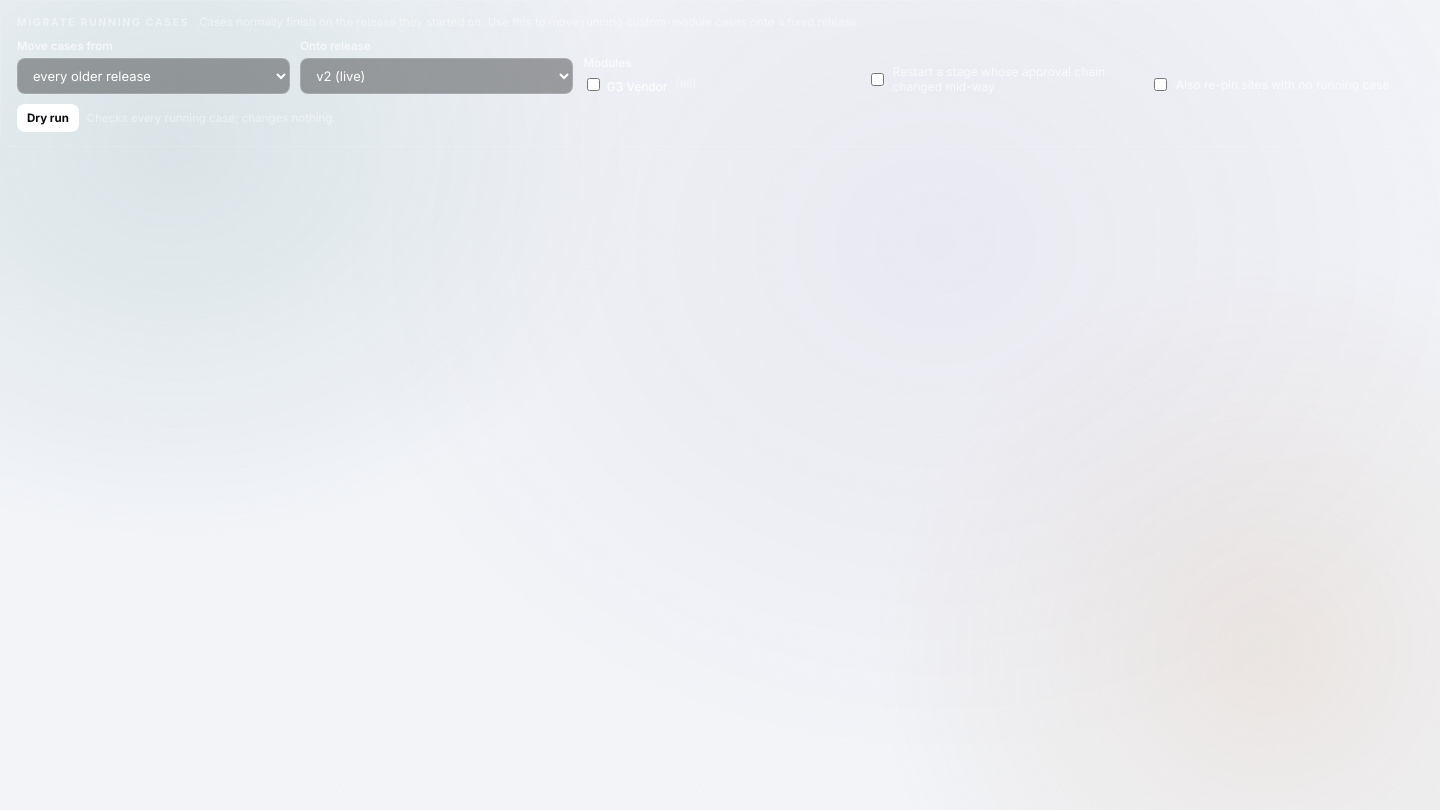
MigrateCasesPanel › dry run -> compatibility table -> reason + confirm -> execute
Click the checkbox labelled "G3 Vendor" at (594, 84), box [587,78,600,91]
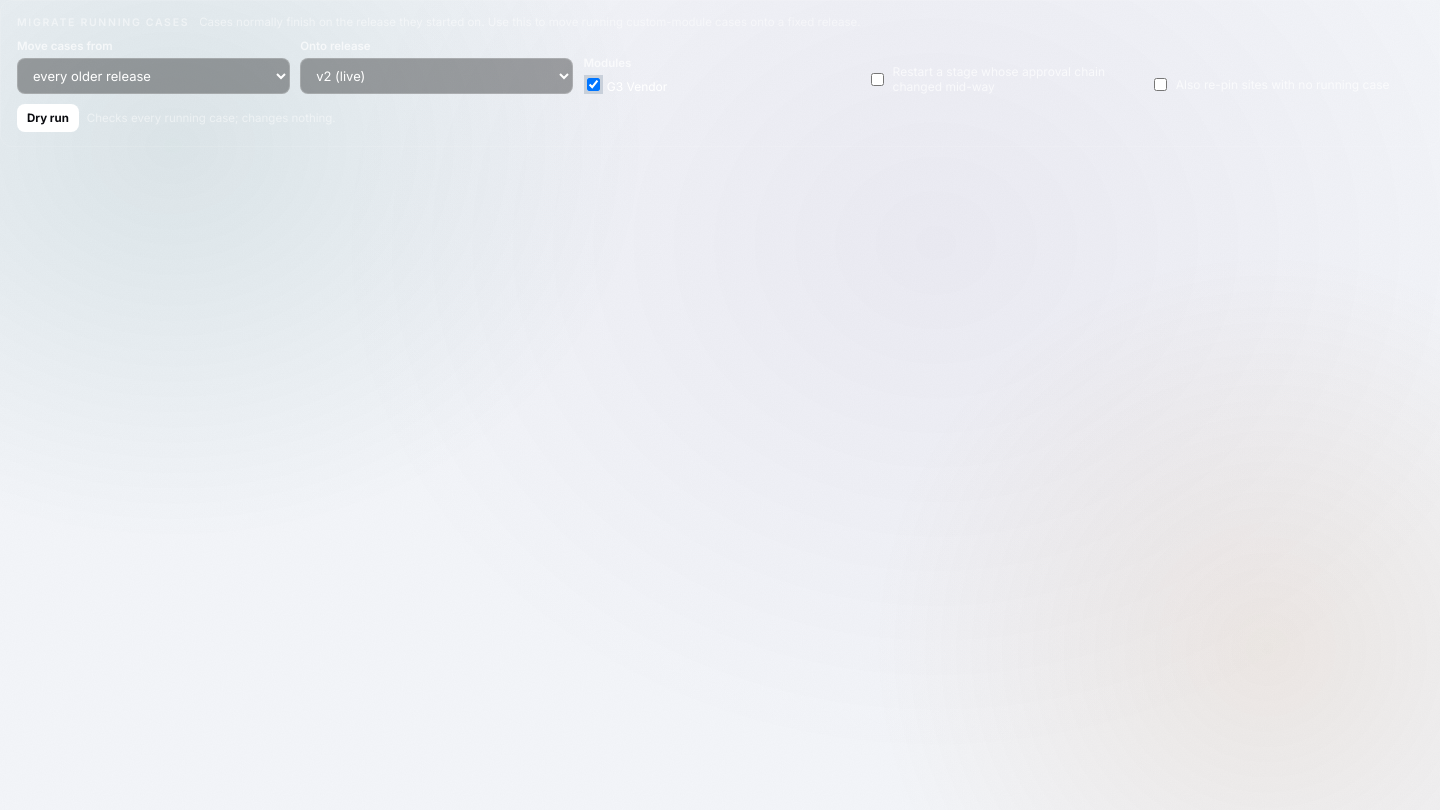
Click the button "Dry run" at (48, 118), box [17,104,79,132]
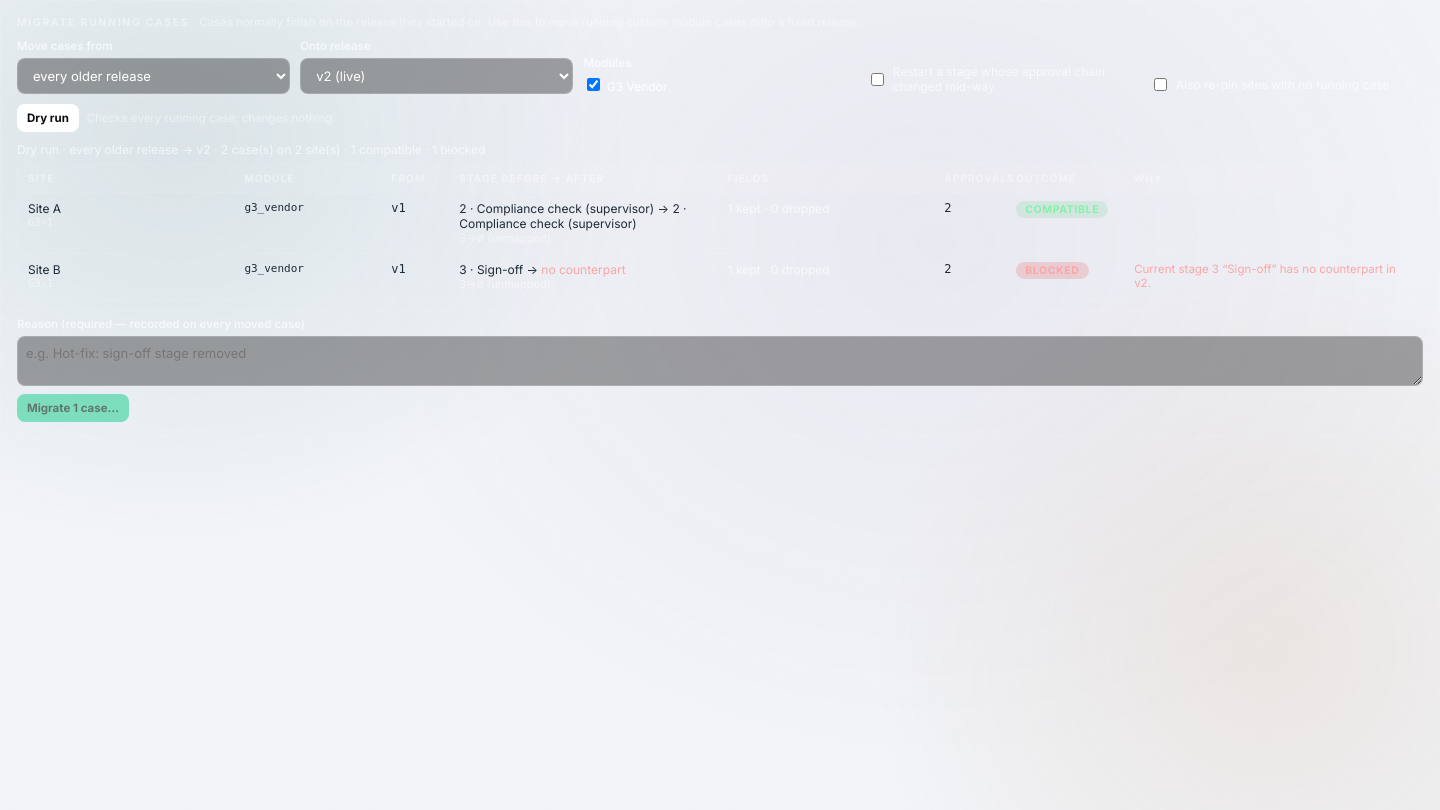
Now the text "compatible" is shown, box [1016,201,1108,218]
Now the text "blocked" is shown, box [1016,262,1089,279]
Now the text "Current stage 3 “Sign-off” has no counterpart in v2." is shown, box [1134,262,1412,290]
Type "Hot-fix: sign-off removed" into the text box named "Migration reason" at (720, 361), box [17,336,1423,386]
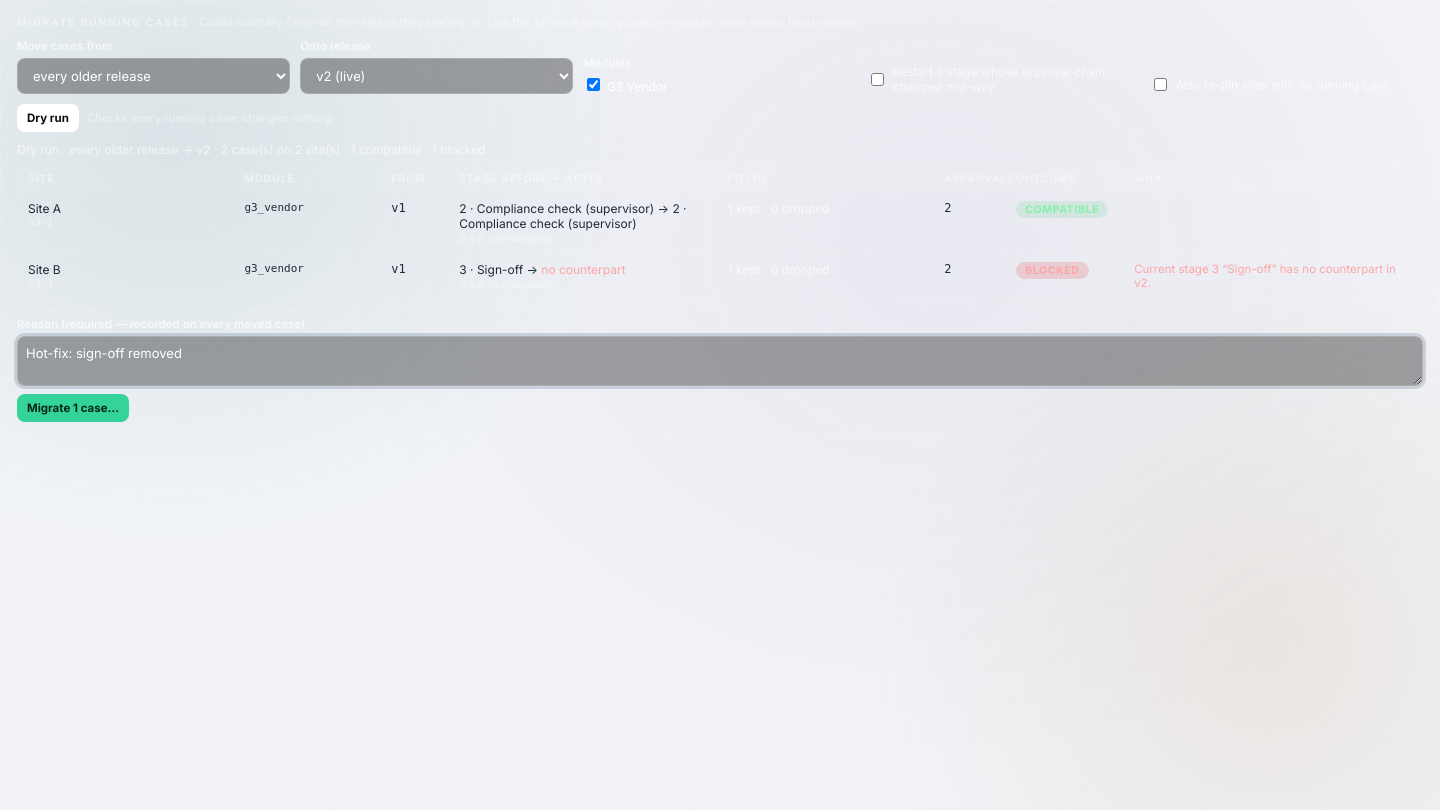
Click the button "Migrate 1 case…" at (73, 408), box [17,394,129,422]
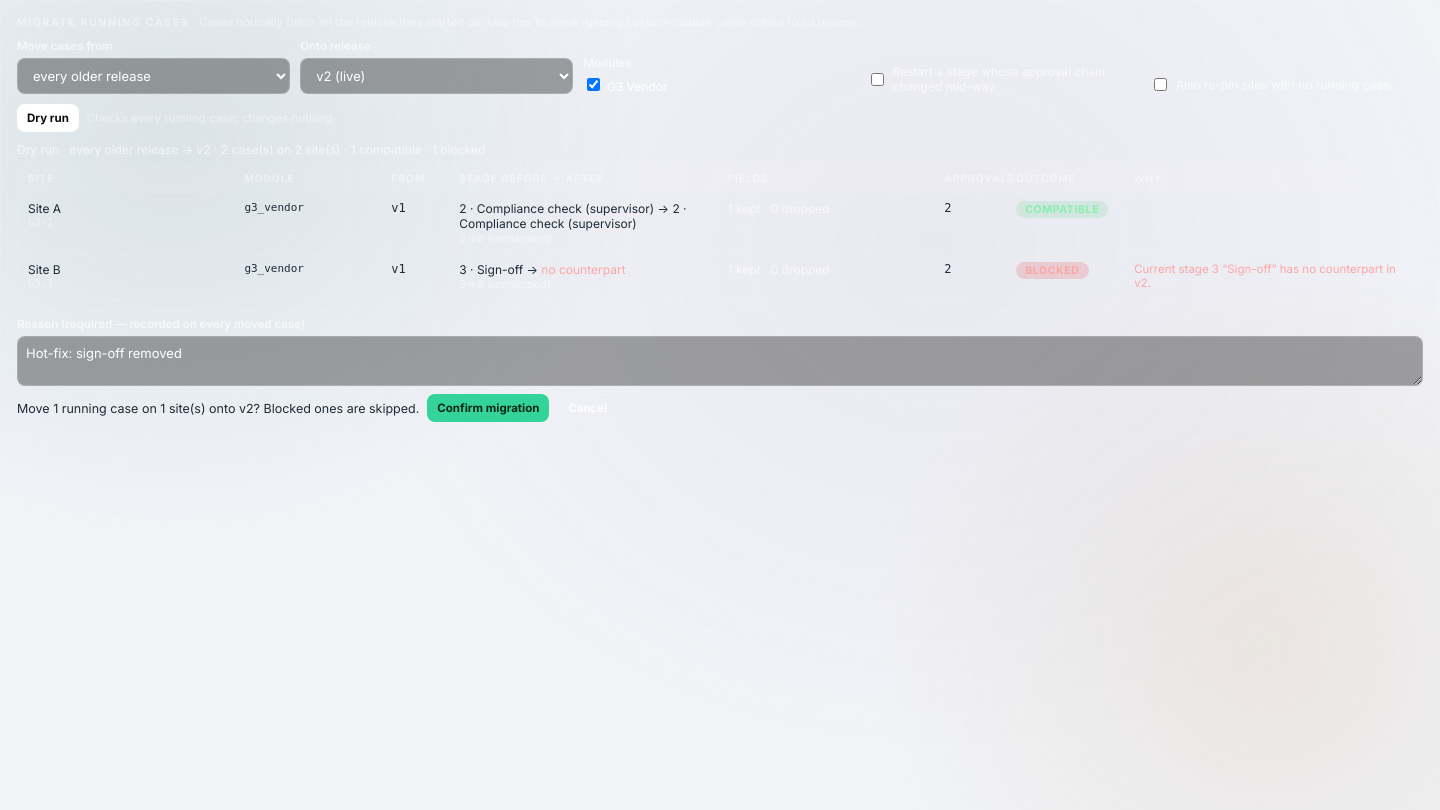
Click the button "Confirm migration" at (488, 408), box [427,394,549,422]
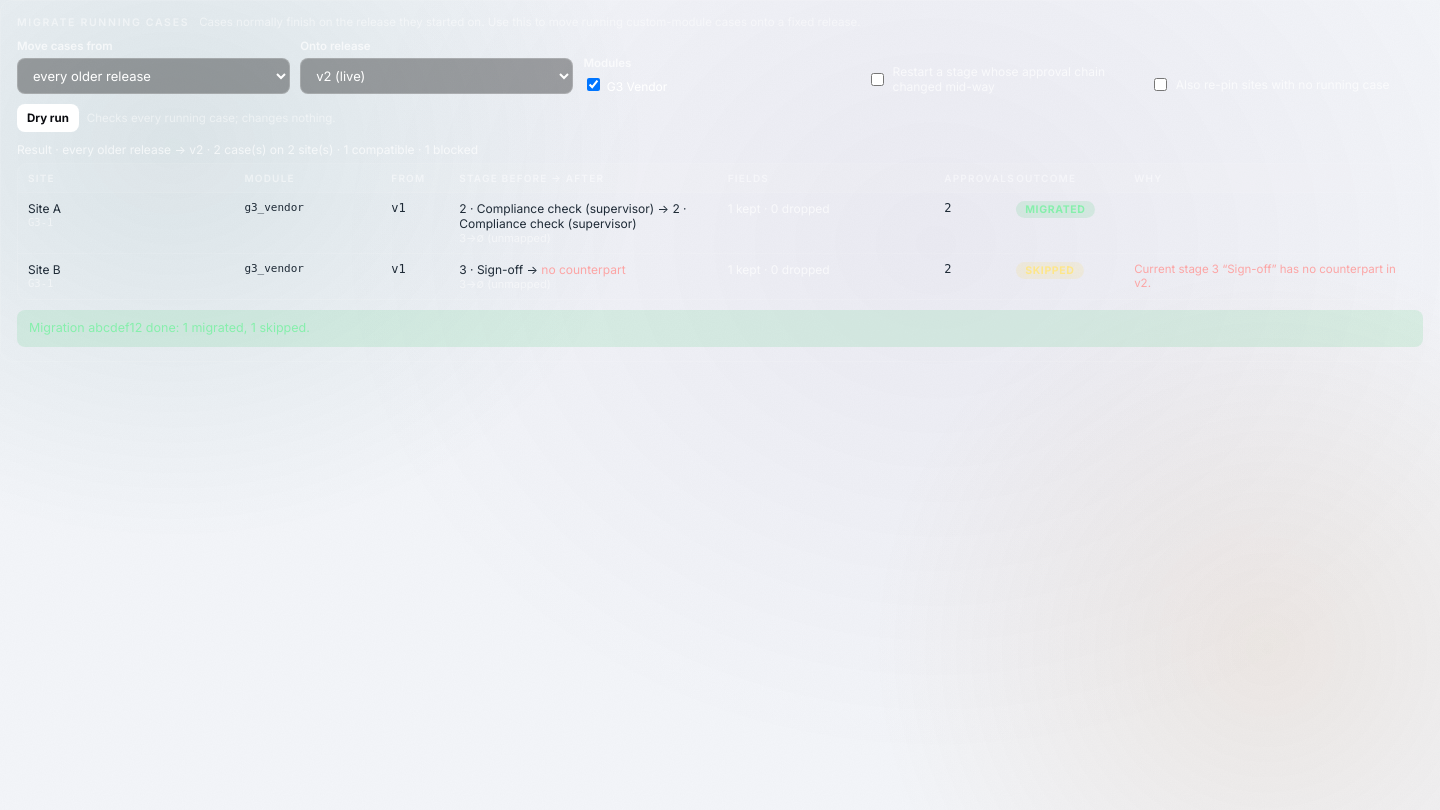
Now the text "migrated" is shown, box [1016,201,1095,218]
Now the text "skipped" is shown, box [1016,262,1084,279]
Now the text "Migration abcdef12 done: 1 migrated, 1 skipped." is shown, box [17,310,1423,347]
